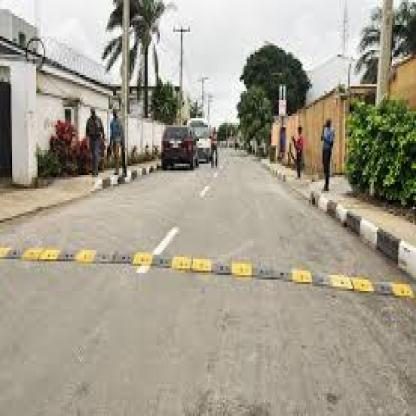car: (156, 120, 199, 184), (183, 108, 218, 172)
